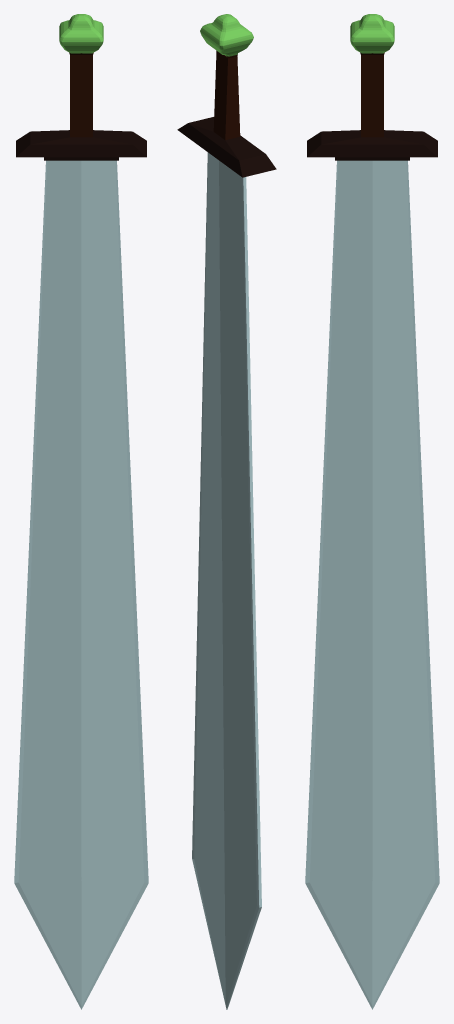
The model's file is sword001.fbx.
3 views of the same model, side by side, from view 1: azimuth 90°, elevation 25°; view 2: azimuth 210°, elevation 25°; view 3: azimuth 270°, elevation 25° (orthographic).
Parts seen in each view (by area): view 1: Cube; view 2: Cube; view 3: Cube.
Part boxes in pixels (left/top/right/bottom): Cube: left=14, top=14, right=148, bottom=1009; Cube: left=177, top=14, right=276, bottom=1009; Cube: left=305, top=14, right=439, bottom=1009.
Size of the model in its own units: 9.23 by 256 by 31.34.
